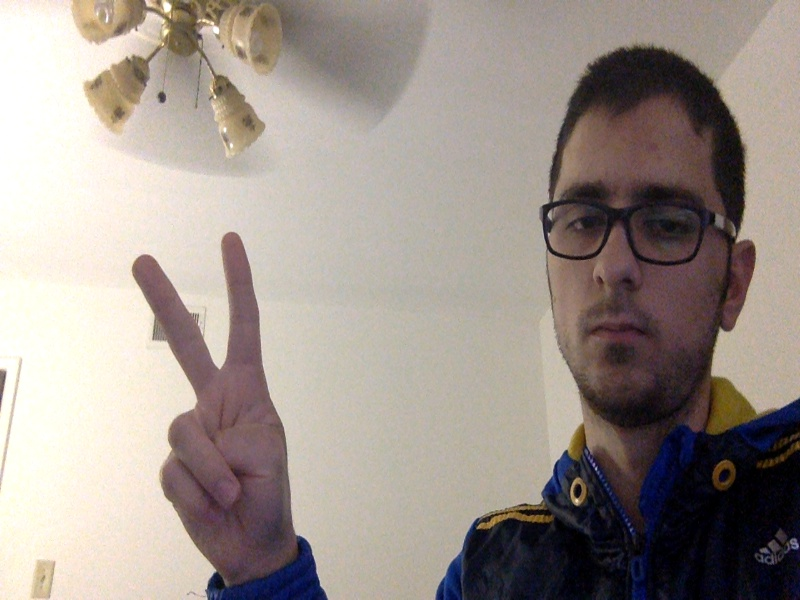2-hand: (133, 232, 291, 576)
